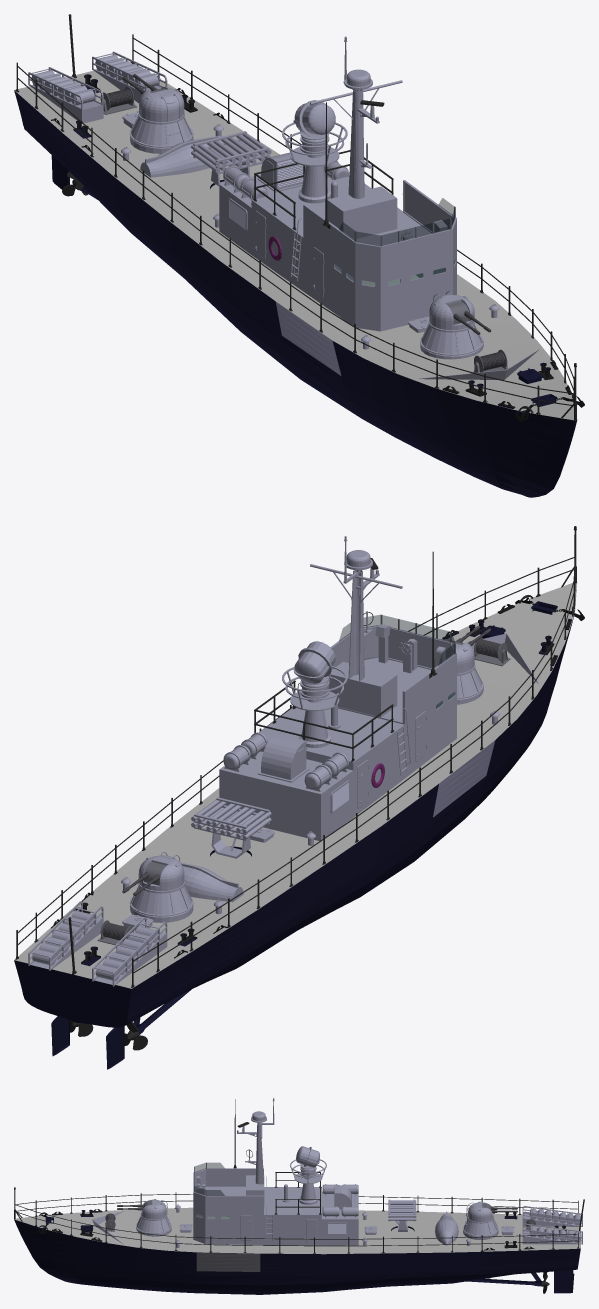
Rendered from realBattleShip.obj.
3 views of the same model, one above another, from view 1: azimuth 30°, elevation 25°; view 2: azimuth 150°, elevation 25°; view 3: azimuth 270°, elevation 25° (orthographic). The views are drawn at different scales.
Parts seen in each view (by area): view 1: Loft03_side_(sub), Loft03_deck_(sub), cabin_Material_#2, fence2___1_fence2, fence____1_fence, Rectangle0_Material_#, Rectangle1_Material_#, Rectangle5_Material_#, Cylinder04_Material_#, Loft03_r_number_(sub), basturret_Material_#2, basturret0_Material_# (+11 smaller); view 2: Loft03_deck_(sub), Loft03_side_(sub), cabin_Material_#2, fence____1_fence, fence2___1_fence2, Rectangle0_Material_#, Rectangle1_Material_#, Rectangle5_Material_#, Cylinder04_Material_#, life_raft_Material_#2, inlet_Material_#2, basturret0_Material_# (+9 smaller); view 3: Loft03_side_(sub), Loft03_deck_(sub), cabin_Material_#2, fence2___1_fence2, Rectangle0_Material_#, fence____1_fence, Loft03_l_number_(sub), Rectangle5_Material_#, Rectangle1_Material_#, basturret0_Material_#, life_raft_Material_#2, Cylinder04_Material_# (+13 smaller).
Part boxes in pixels (<box>): Loft03_side_(sub): <box>14,75,577,497</box>; Loft03_deck_(sub): <box>14,61,577,420</box>; cabin_Material_#2: <box>219,174,456,331</box>; fence2___1_fence2: <box>17,37,574,405</box>; fence____1_fence: <box>15,14,576,420</box>; Rectangle0_Material_#: <box>28,51,167,123</box>; Rectangle1_Material_#: <box>310,36,402,198</box>; Rectangle5_Material_#: <box>282,122,347,203</box>; Cylinder04_Material_#: <box>191,131,271,174</box>; Loft03_r_number_(sub): <box>275,301,341,375</box>; basturret_Material_#2: <box>420,319,483,359</box>; basturret0_Material_#: <box>129,111,193,153</box>; Loft03_deck_(sub): <box>14,582,577,988</box>; Loft03_side_(sub): <box>14,599,574,1069</box>; cabin_Material_#2: <box>219,624,456,840</box>; fence____1_fence: <box>15,526,576,987</box>; fence2___1_fence2: <box>18,557,575,972</box>; Rectangle0_Material_#: <box>28,901,167,986</box>; Rectangle1_Material_#: <box>310,536,402,681</box>; Rectangle5_Material_#: <box>282,666,347,747</box>; Cylinder04_Material_#: <box>191,797,271,840</box>; life_raft_Material_#2: <box>223,732,348,791</box>; inlet_Material_#2: <box>257,733,309,782</box>; basturret0_Material_#: <box>129,880,193,922</box>; Loft03_side_(sub): <box>14,1209,580,1294</box>; Loft03_deck_(sub): <box>14,1207,580,1254</box>; cabin_Material_#2: <box>193,1168,358,1245</box>; fence2___1_fence2: <box>15,1194,577,1246</box>; Rectangle0_Material_#: <box>522,1206,582,1244</box>; fence____1_fence: <box>14,1172,584,1253</box>; Loft03_l_number_(sub): <box>196,1252,260,1271</box>; Rectangle5_Material_#: <box>290,1159,326,1204</box>; Rectangle1_Material_#: <box>237,1098,274,1184</box>; basturret0_Material_#: <box>463,1216,498,1239</box>; life_raft_Material_#2: <box>322,1184,358,1218</box>; Cylinder04_Material_#: <box>388,1199,416,1221</box>.
Size of the model in its own units: 0.715 by 1.4 by 3.84.
